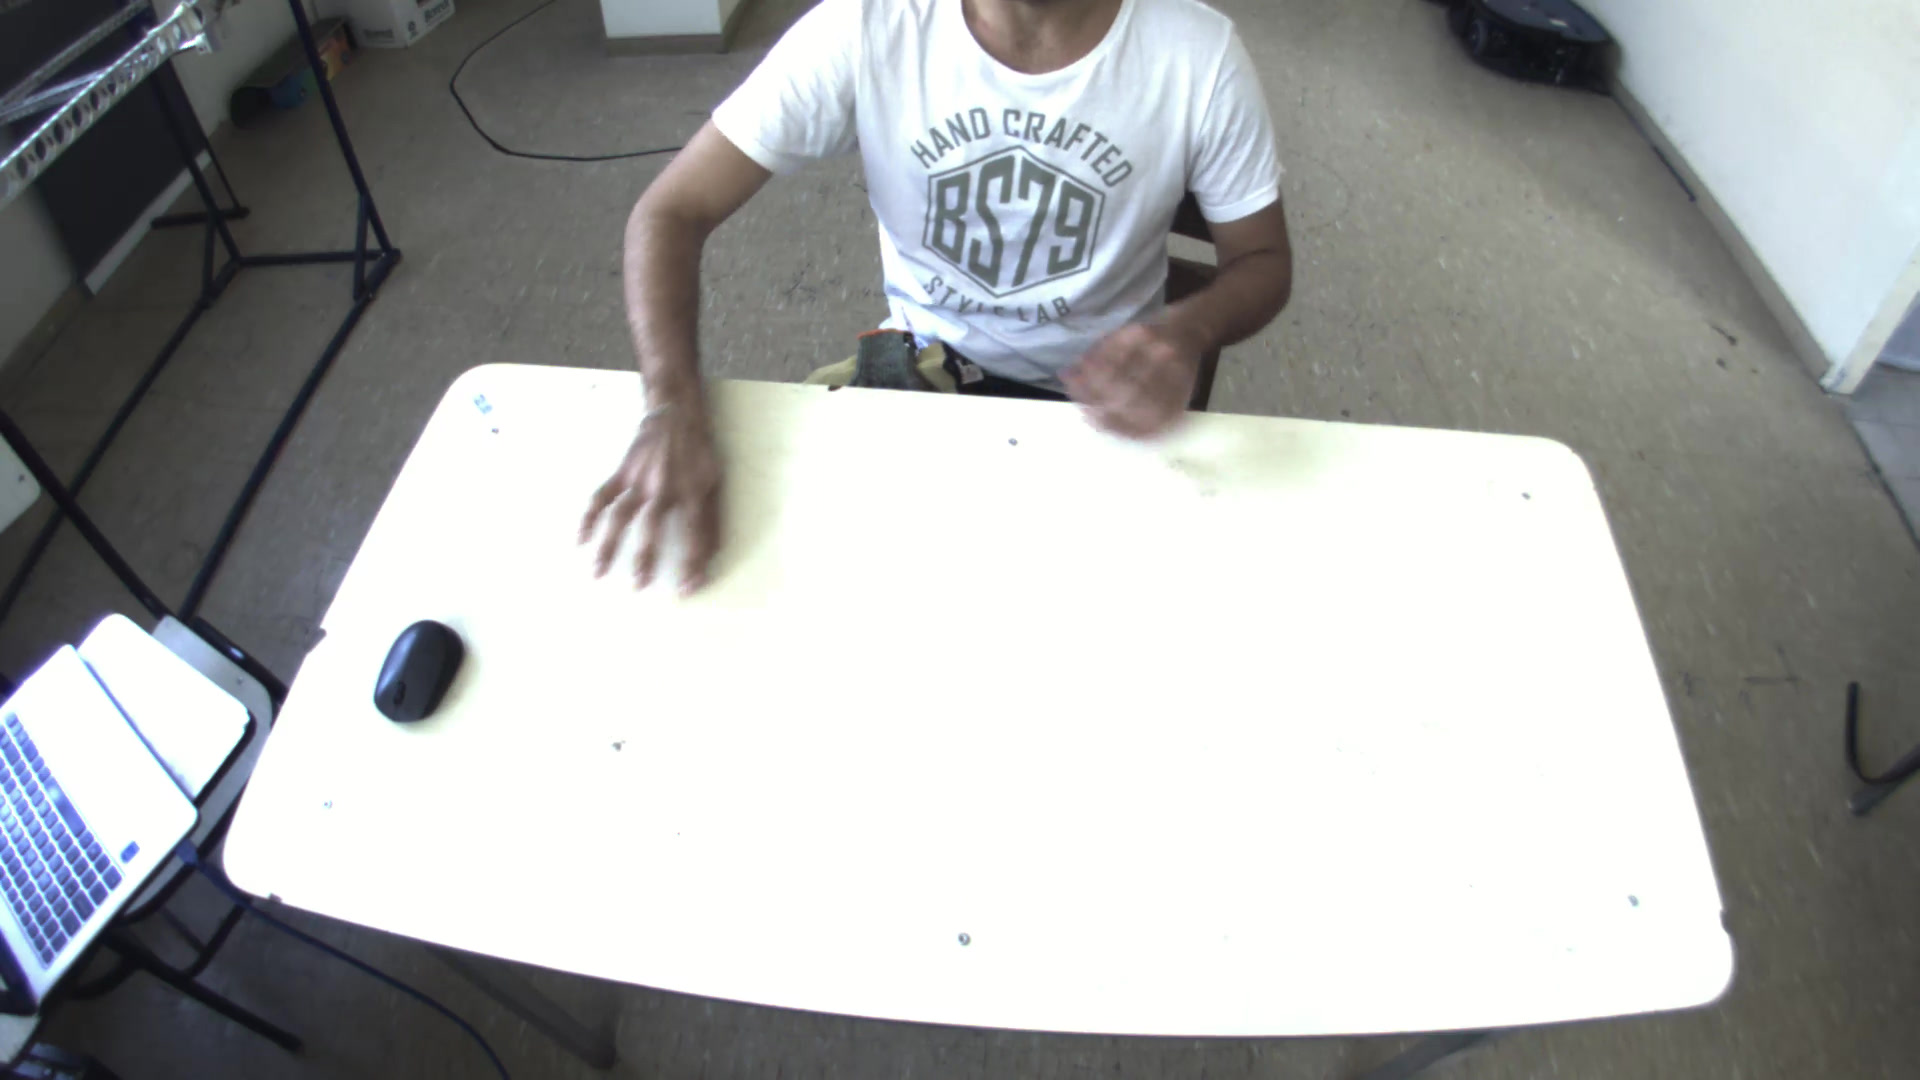hand: (562, 386, 740, 604)
